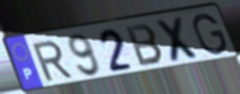2: (98, 26, 138, 76)
9: (67, 32, 101, 78)
B: (124, 22, 166, 68)
G: (191, 12, 229, 57)
R: (30, 39, 75, 84)
X: (153, 15, 204, 64)
